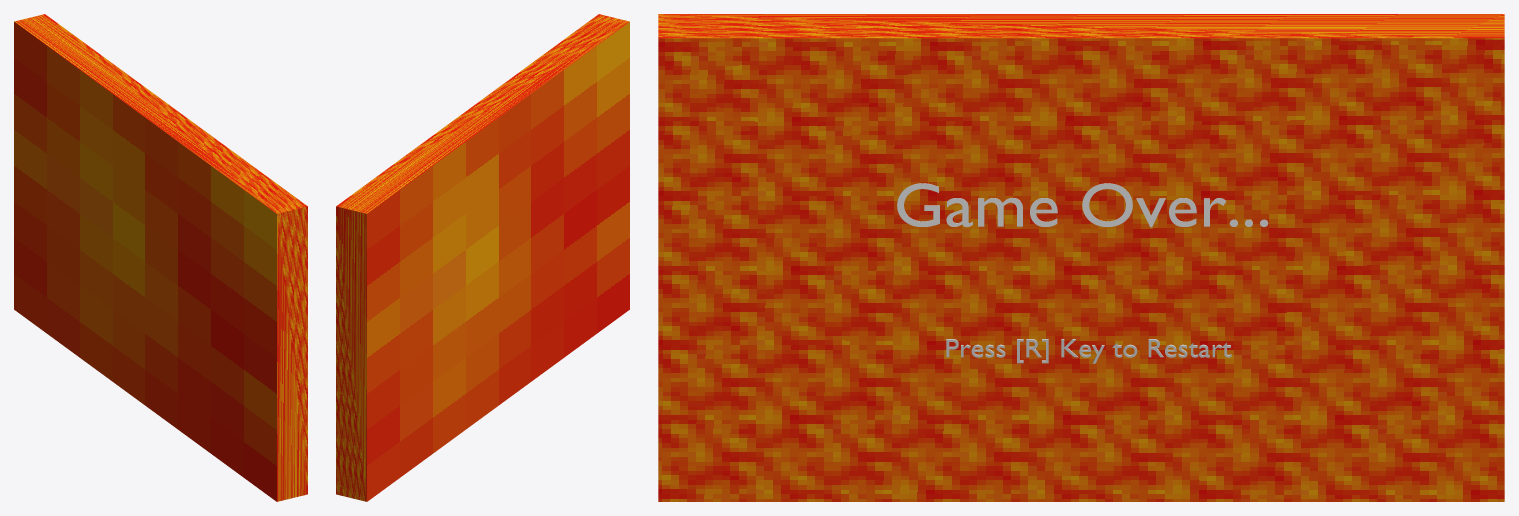
File: GameOver.gltf
3 renders of one model, left to right at view 1: azimuth 30°, elevation 25°; view 2: azimuth 150°, elevation 25°; view 3: azimuth 270°, elevation 25°, orthographic. The views are drawn at different scales.
Parts seen in each view (by area): view 1: 立方体; view 2: 立方体; view 3: 立方体, テキスト.002, テキスト.001.
Boxes of the visible parts, box(x1,y1,x2,y2) form: 立方体: box(14, 14, 307, 501); 立方体: box(336, 14, 629, 501); 立方体: box(658, 14, 1504, 501); テキスト.002: box(897, 183, 1268, 227); テキスト.001: box(946, 339, 1231, 363).
Bounding box in the file's own units: 1.31 × 11.21 × 18.55.
3 materials, 1 textured.
